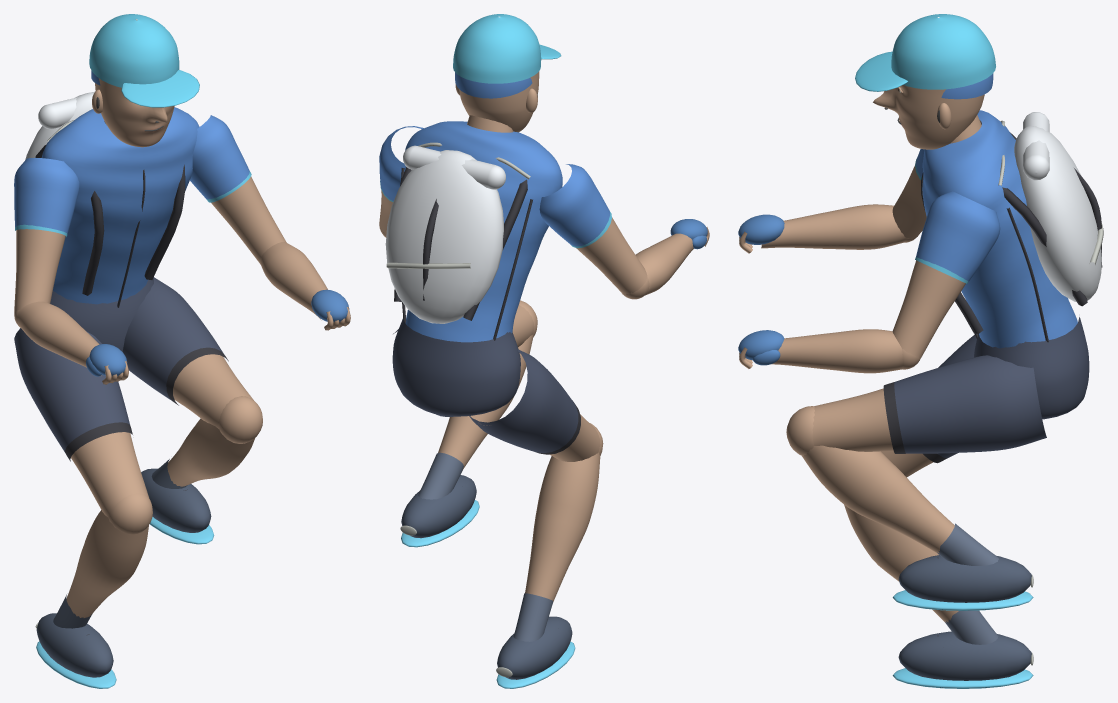
Rendered from courier-char4.glb.
3 views of the same model, side by side, from view 1: azimuth 30°, elevation 25°; view 2: azimuth 150°, elevation 25°; view 3: azimuth 270°, elevation 25° (orthographic). The views are drawn at different scales.
Parts seen in each view (by area): view 1: rider-torso, thigh-left, rider-head, thigh-right, upper-arm-left, upper-arm-right, shin-left, foot-left, shin-right, foot-right, forearm-left, anatomical-bicycle-courier (+5 smaller); view 2: rider-torso, anatomical-bicycle-courier, rider-head, shin-left, thigh-left, upper-arm-left, foot-left, shin-right, foot-right, forearm-left, upper-arm-right, hand-left (+1 smaller); view 3: rider-torso, thigh-right, rider-head, upper-arm-right, shin-right, foot-left, foot-right, anatomical-bicycle-courier, forearm-left, forearm-right, shin-left, upper-arm-left (+4 smaller).
Boxes of the visible parts, x1,y1,x2,y2 form: rider-torso: [25, 91, 199, 307]; thigh-left: [14, 328, 148, 516]; rider-head: [89, 14, 199, 147]; thigh-right: [123, 277, 253, 428]; upper-arm-left: [14, 157, 79, 311]; upper-arm-right: [190, 115, 286, 263]; shin-left: [53, 510, 148, 628]; foot-left: [35, 613, 116, 688]; shin-right: [151, 418, 254, 488]; foot-right: [141, 468, 214, 544]; forearm-left: [17, 301, 101, 375]; anatomical-bicycle-courier: [50, 278, 153, 351]; rider-torso: [385, 115, 562, 342]; anatomical-bicycle-courier: [392, 318, 520, 416]; rider-head: [453, 14, 561, 132]; shin-left: [513, 452, 600, 641]; thigh-left: [469, 350, 600, 461]; upper-arm-left: [539, 164, 647, 294]; foot-left: [496, 616, 575, 688]; shin-right: [418, 334, 533, 499]; foot-right: [400, 475, 479, 547]; forearm-left: [635, 233, 693, 295]; upper-arm-right: [379, 126, 423, 234]; hand-left: [670, 219, 709, 249]; rider-torso: [921, 110, 1103, 348]; thigh-right: [812, 355, 1046, 453]; rider-head: [855, 14, 995, 149]; upper-arm-right: [892, 191, 1000, 358]; shin-right: [802, 445, 998, 565]; foot-left: [892, 631, 1033, 688]; foot-right: [892, 555, 1033, 610]; anatomical-bicycle-courier: [974, 317, 1089, 419]; forearm-left: [761, 204, 905, 249]; forearm-right: [771, 329, 902, 373]; shin-left: [844, 504, 998, 644]; upper-arm-left: [892, 149, 926, 238].
Size of the model in its own units: 0.6252 by 1.39 by 0.6676.
